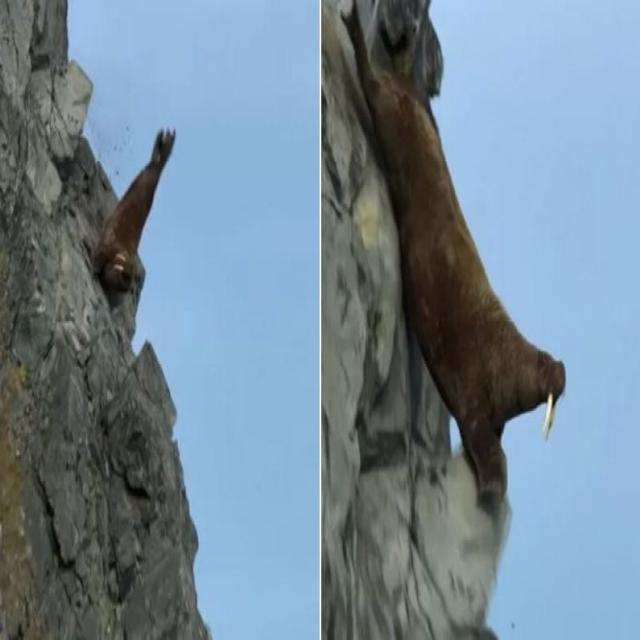walrus: (340, 1, 572, 516), (88, 121, 180, 302)
